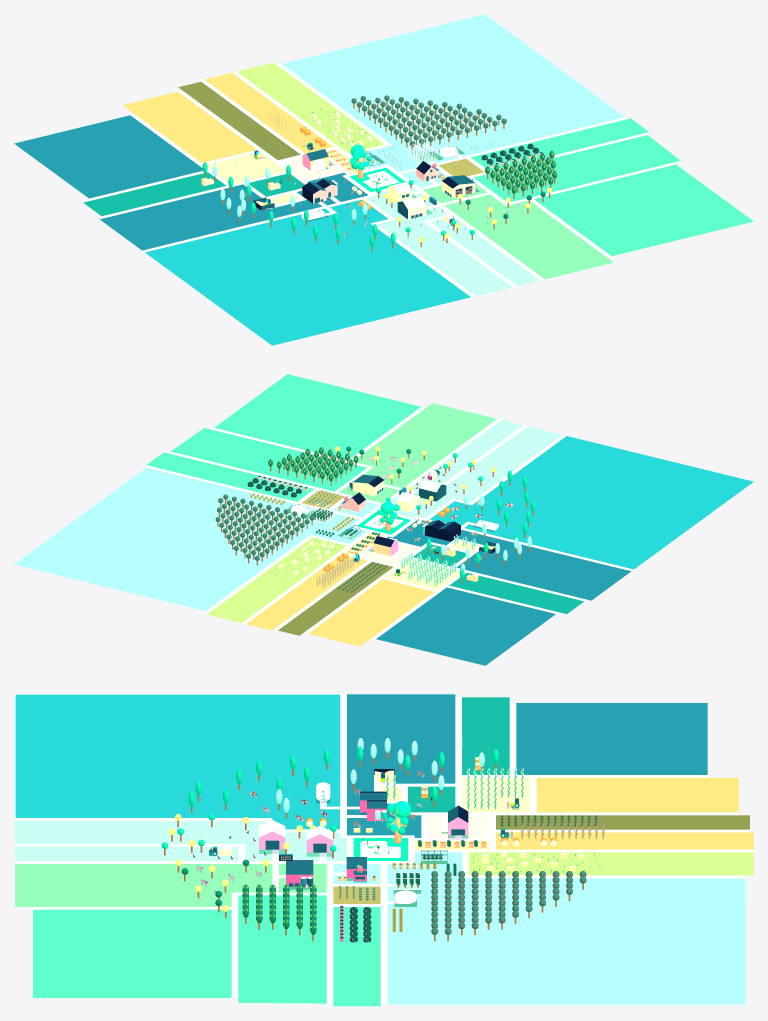
File: boerderleren.gltf
The picture shows the model from 3 angles, top to bottom: view 1: azimuth 30°, elevation 25°; view 2: azimuth 150°, elevation 25°; view 3: azimuth 270°, elevation 25°; orthographic projection. The views are drawn at different scales.
Visible parts, largest first — view 1: horticulture-farm_grass.009, dairy-farm_grass.015, horticulture-farm_grass.013, dairy-farm_grass.016, roads, agriculture-farm_grass.004, livestock-farm_grass.002, livestock-farm_grass.001, agriculture-farm_grass.007, dairy-farm_grass.002, agriculture-farm_grass.005, agriculture-farm_grass.003 (+2 smaller); view 2: horticulture-farm_grass.009, dairy-farm_grass.015, horticulture-farm_grass.013, dairy-farm_grass.016, roads, agriculture-farm_grass.004, livestock-farm_grass.002, livestock-farm_grass.001, agriculture-farm_grass.007, dairy-farm_grass.002, agriculture-farm_grass.005, agriculture-farm_grass.003 (+3 smaller); view 3: horticulture-farm_grass.009, dairy-farm_grass.015, horticulture-farm_grass.013, dairy-farm_grass.016, roads, agriculture-farm_grass.004, livestock-farm_grass.002, livestock-farm_grass.001, agriculture-farm_grass.007, dairy-farm_grass.002, agriculture-farm_grass.005, agriculture-farm_grass.003 (+11 smaller).
Boxes of the visible parts, x1,y1,x2,y2 form: horticulture-farm_grass.009: [282, 14, 624, 172]; dairy-farm_grass.015: [145, 199, 470, 345]; horticulture-farm_grass.013: [471, 118, 753, 255]; dairy-farm_grass.016: [14, 115, 367, 250]; roads: [89, 64, 675, 297]; agriculture-farm_grass.004: [123, 72, 332, 162]; livestock-farm_grass.002: [423, 183, 613, 279]; livestock-farm_grass.001: [367, 185, 539, 296]; agriculture-farm_grass.007: [237, 62, 384, 153]; dairy-farm_grass.002: [83, 172, 304, 215]; agriculture-farm_grass.005: [178, 82, 300, 159]; agriculture-farm_grass.003: [207, 151, 299, 204]; horticulture-farm_grass.009: [14, 467, 366, 611]; dairy-farm_grass.015: [430, 436, 753, 569]; horticulture-farm_grass.013: [146, 374, 420, 501]; dairy-farm_grass.016: [376, 519, 630, 665]; roads: [146, 407, 633, 638]; agriculture-farm_grass.004: [246, 554, 434, 646]; livestock-farm_grass.002: [339, 403, 496, 502]; livestock-farm_grass.001: [380, 420, 562, 518]; agriculture-farm_grass.007: [207, 537, 346, 622]; dairy-farm_grass.002: [413, 544, 583, 613]; agriculture-farm_grass.005: [278, 562, 392, 635]; agriculture-farm_grass.003: [385, 541, 478, 589]; horticulture-farm_grass.009: [387, 852, 745, 1004]; dairy-farm_grass.015: [15, 694, 340, 829]; horticulture-farm_grass.013: [33, 895, 380, 1006]; dairy-farm_grass.016: [347, 694, 707, 837]; roads: [14, 694, 753, 1004]; agriculture-farm_grass.004: [496, 778, 753, 849]; livestock-farm_grass.002: [15, 864, 326, 906]; livestock-farm_grass.001: [15, 821, 346, 860]; agriculture-farm_grass.007: [469, 852, 753, 875]; dairy-farm_grass.002: [408, 697, 509, 812]; agriculture-farm_grass.005: [496, 815, 749, 829]; agriculture-farm_grass.003: [381, 778, 529, 812].
Size of the model in its own units: 5473 by 365 by 5485.
137 materials, 49 textured.
